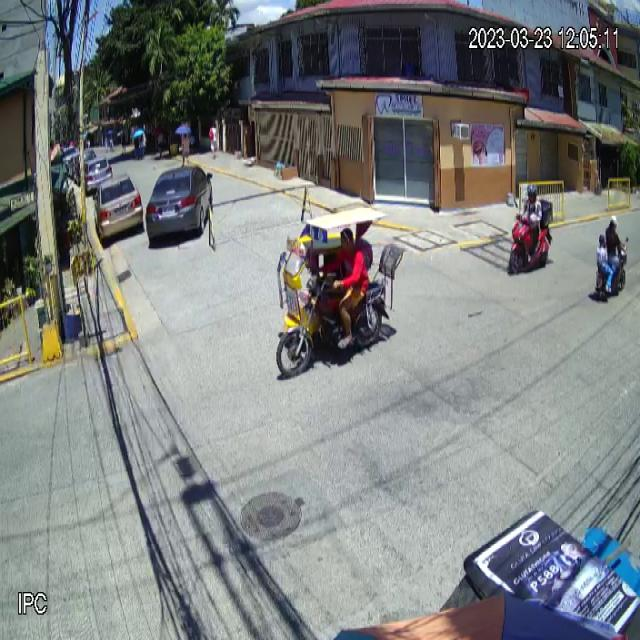Car: (145, 164, 213, 242)
Motorcycle: (509, 198, 554, 275)
Tricycle: (276, 204, 406, 377)
